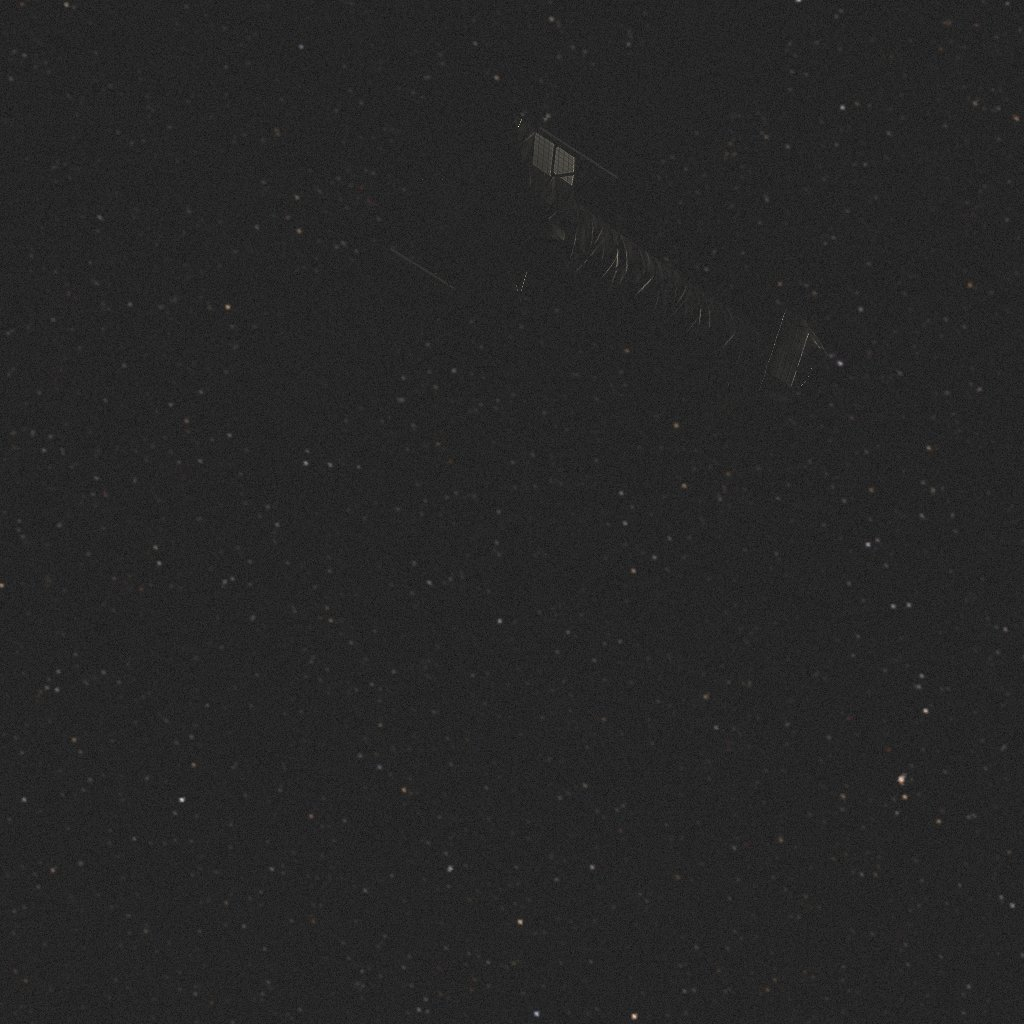xmm_newton: (208, 0, 830, 442)
